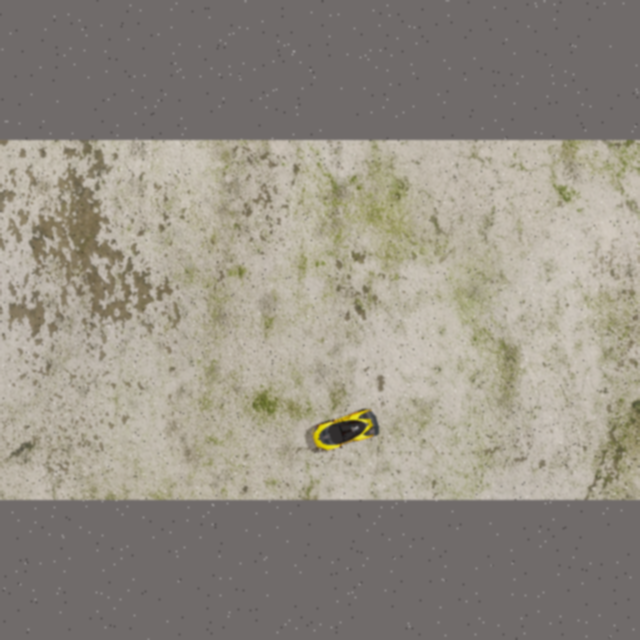car: (308, 405, 382, 457)
